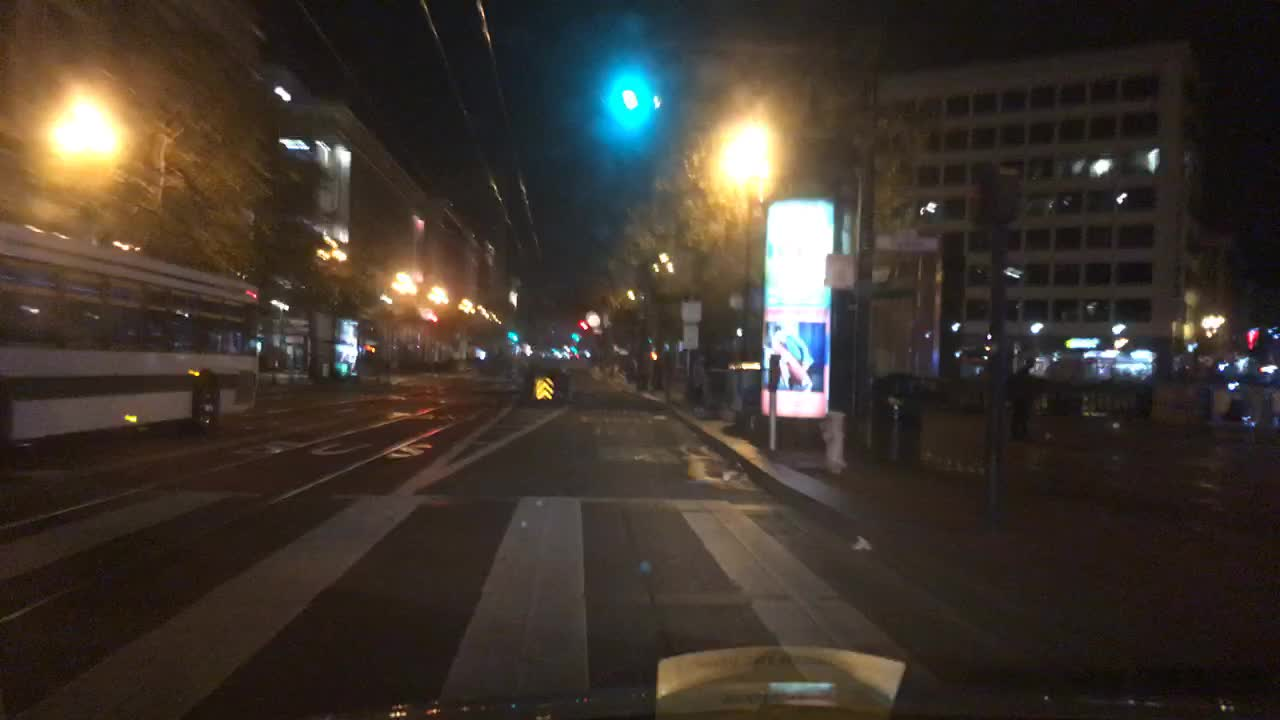bus: (0, 222, 260, 462)
person: (1009, 354, 1036, 445), (690, 353, 704, 414), (1224, 352, 1240, 385)
traffic light: (620, 87, 637, 111), (570, 331, 581, 344), (578, 319, 589, 331), (506, 331, 517, 341)
traffic sign: (826, 254, 854, 286), (533, 373, 554, 404), (682, 327, 699, 351), (681, 303, 701, 323)
